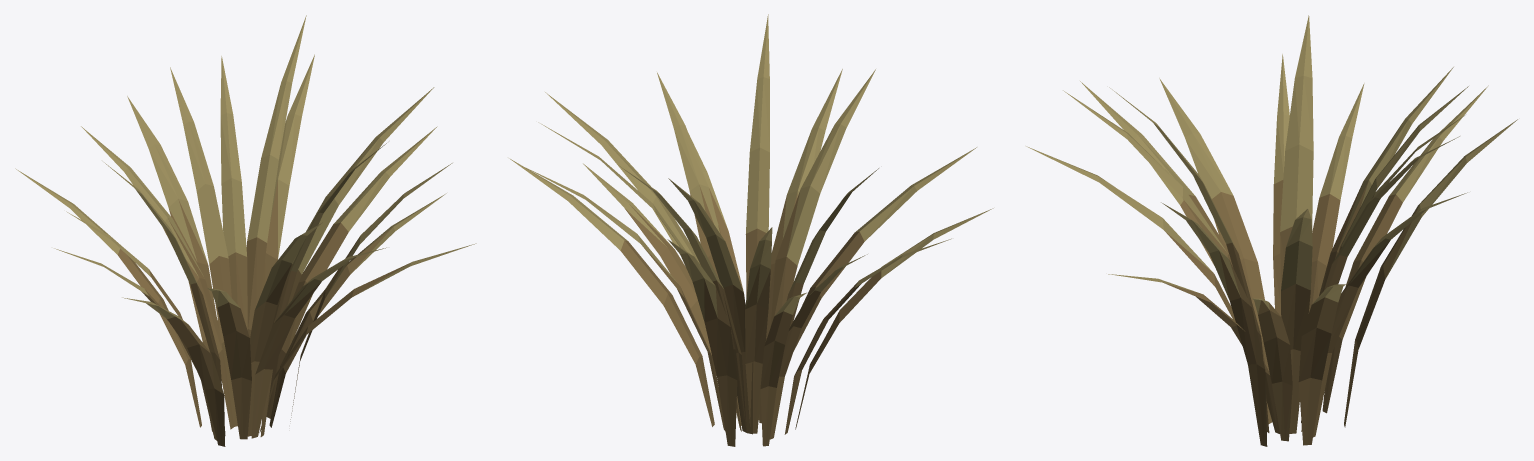
The model's file is grass_tuft_c_autumn.glb.
3 views of the same model, side by side, from view 1: azimuth 30°, elevation 25°; view 2: azimuth 150°, elevation 25°; view 3: azimuth 270°, elevation 25° (orthographic). The views are drawn at different scales.
Parts seen in each view (by area): view 1: geometry; view 2: geometry; view 3: geometry.
Part boxes in pixels (x1=…): geometry: x1=15, y1=15, x2=476, y2=446; geometry: x1=509, y1=14, x2=993, y2=446; geometry: x1=1026, y1=15, x2=1517, y2=446.
Bounding box in the file's own units: 0.5075 × 0.39 × 0.463.
